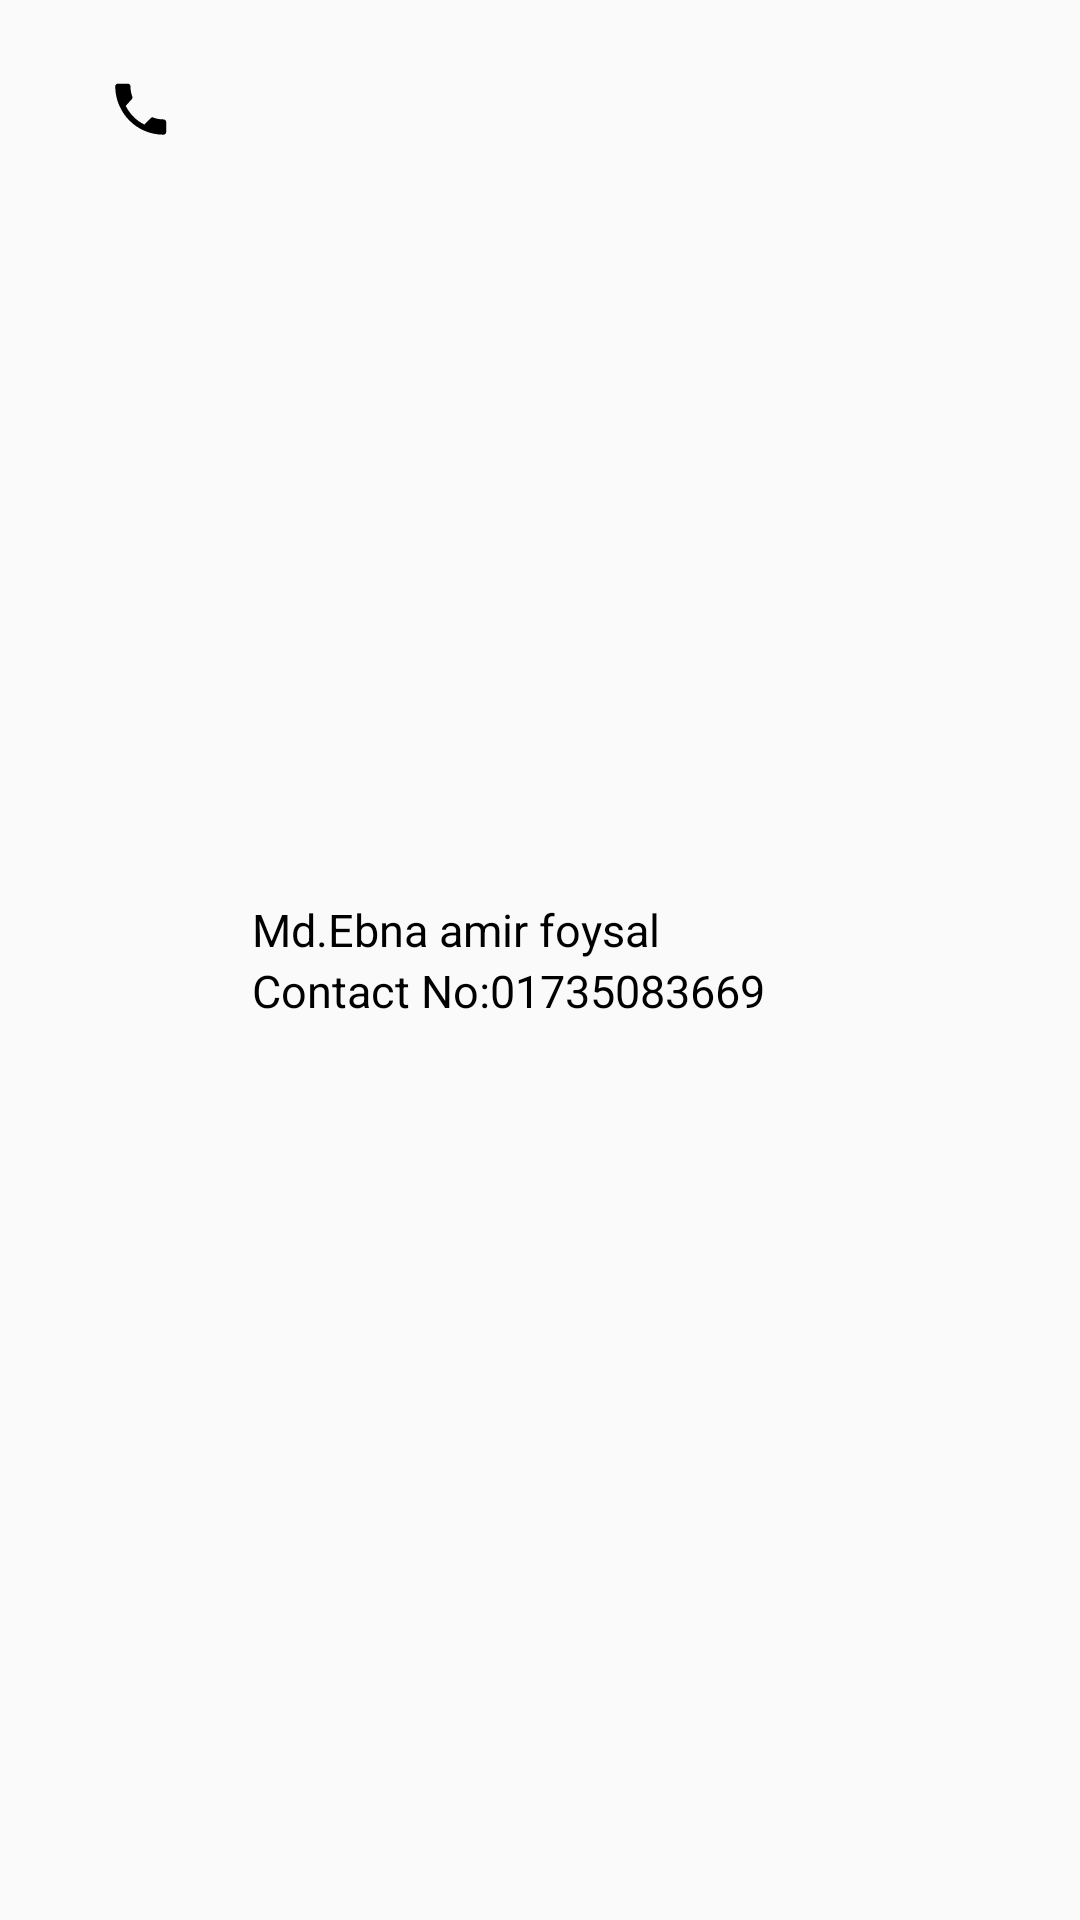

Icons on this 1080 x 1920 Android screen, each with the point to tap as [x,y]:
call: [141,109]
